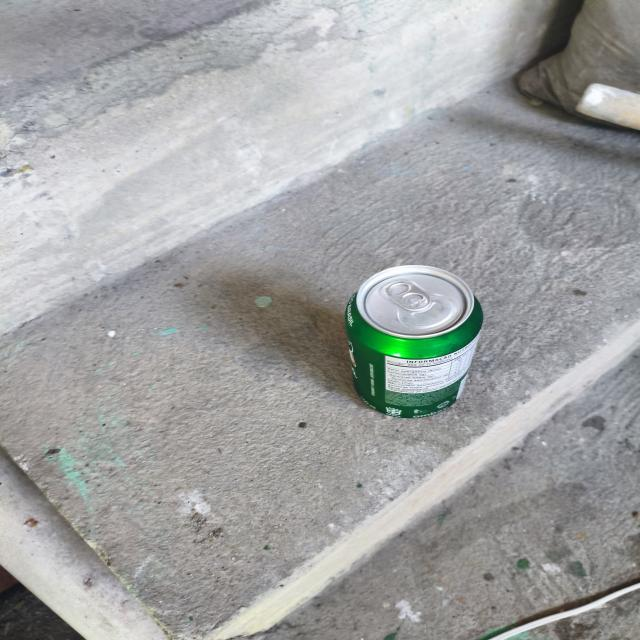Guarana: (303, 241, 499, 435)
